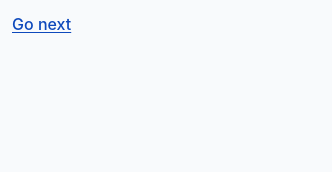
Test case: TextLink › follows the route when activated, without a page reload
Click the link "Go next" at (42, 24), box [12,14,71,34]
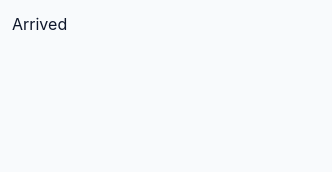
Check: the text "Arrived" is shown, box [12,14,67,34]
